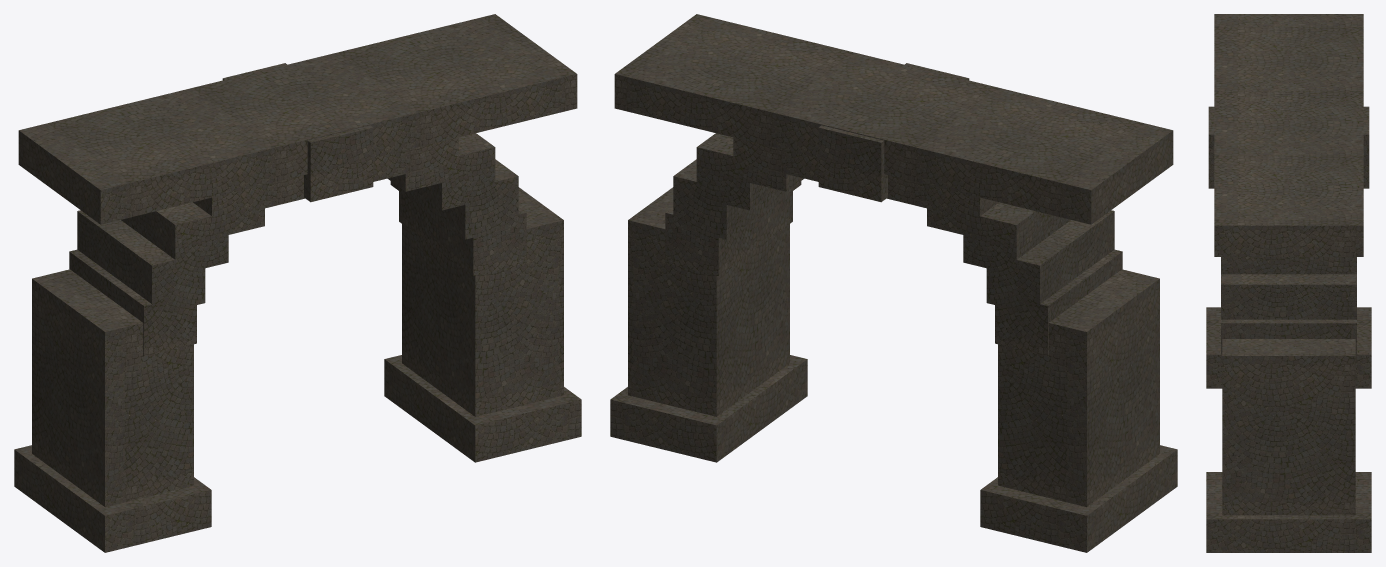
File: stone_arch.gltf
3 views of the same model, side by side, from view 1: azimuth 30°, elevation 25°; view 2: azimuth 150°, elevation 25°; view 3: azimuth 270°, elevation 25° (orthographic). The views are drawn at different scales.
Visible parts, largest first — view 1: StoneArch; view 2: StoneArch; view 3: StoneArch.
Part boxes in pixels (x1,y1,x2,y2): StoneArch: [14, 14, 581, 552]; StoneArch: [610, 14, 1177, 552]; StoneArch: [1206, 14, 1371, 552].
Bounding box in the file's own units: 9.4 × 6.77 × 3.1.
1 material, 1 textured.
